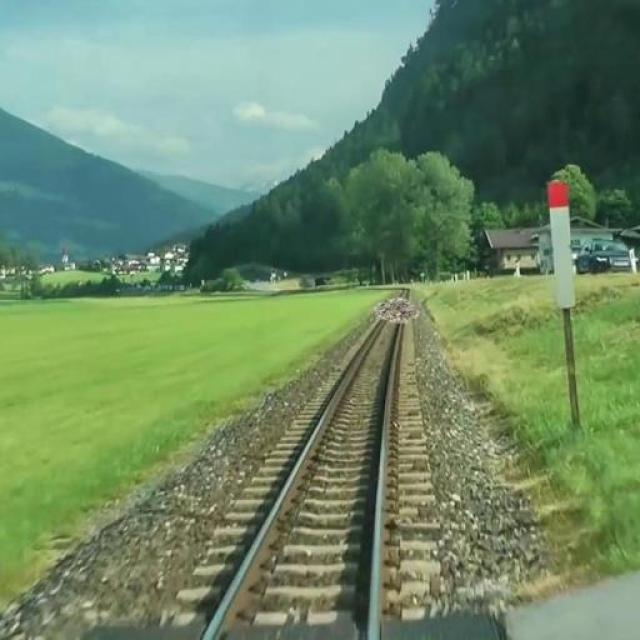Stone: (371, 290, 422, 331)
